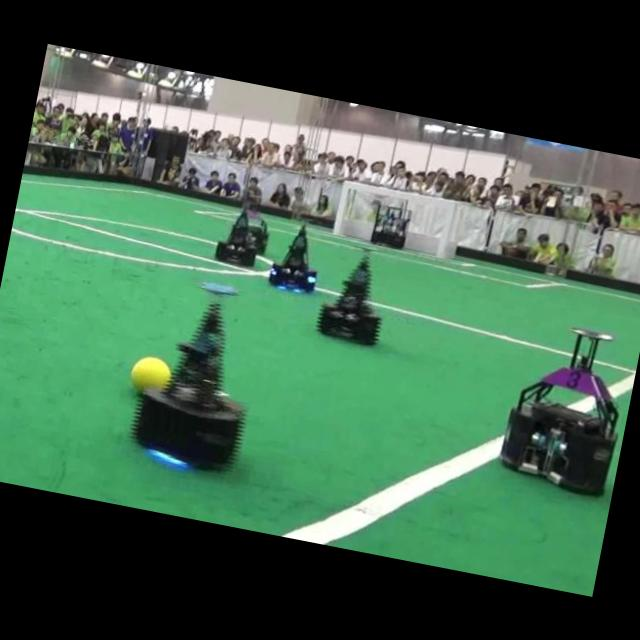ball: (131, 356, 171, 390)
goal: (436, 201, 458, 257), (333, 181, 349, 233)
robot: (501, 328, 618, 493), (133, 303, 244, 469), (318, 254, 380, 344), (269, 222, 317, 291), (215, 208, 257, 267), (371, 203, 412, 247), (247, 208, 269, 254)
